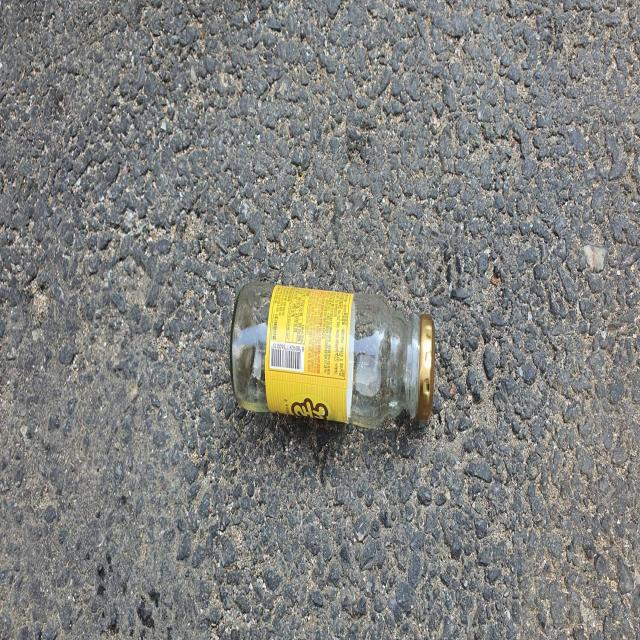glass: (231, 281, 435, 428)
